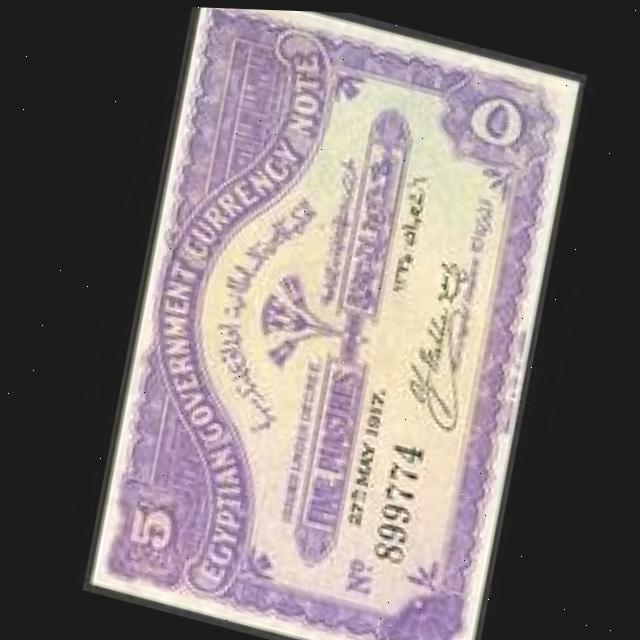banknote: (53, 2, 605, 640)
